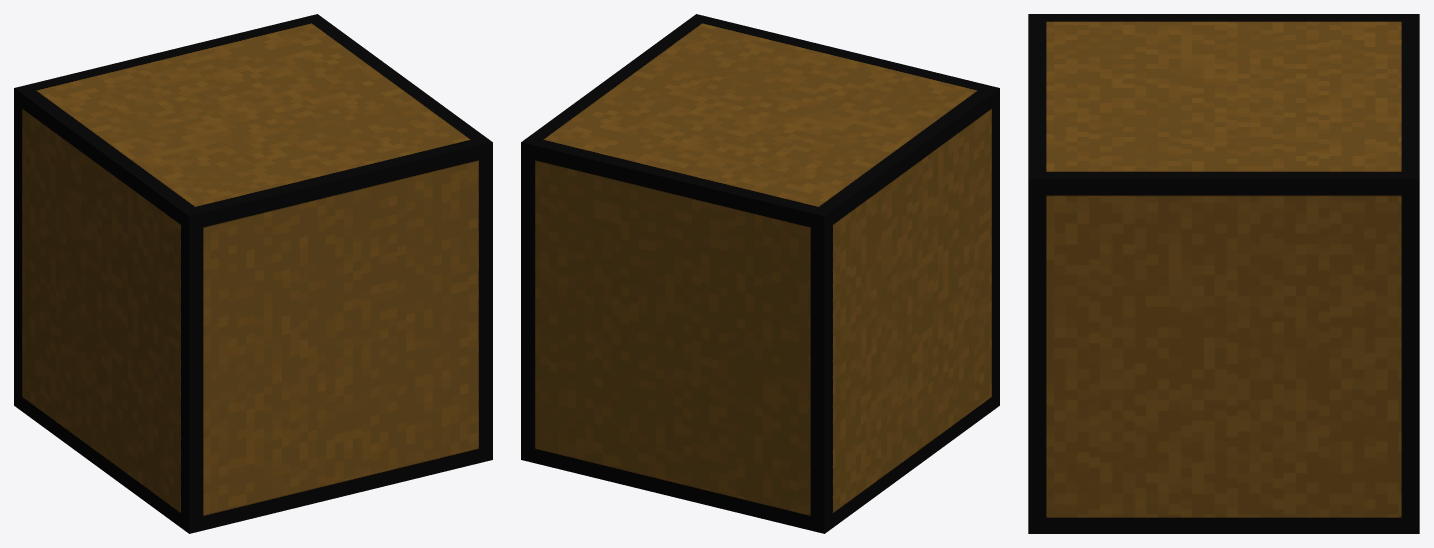
The model's file is Dirt.glb.
3 renders of one model, left to right at view 1: azimuth 30°, elevation 25°; view 2: azimuth 150°, elevation 25°; view 3: azimuth 270°, elevation 25°, orthographic. The views are drawn at different scales.
Visible parts, largest first — view 1: DirtBaked; view 2: DirtBaked; view 3: DirtBaked.
Boxes of the visible parts, x1,y1,x2,y2 form: DirtBaked: [14, 14, 492, 533]; DirtBaked: [521, 14, 999, 533]; DirtBaked: [1028, 14, 1419, 533].
Size of the model in its own units: 0.98 by 0.98 by 0.98.
1 material, 1 textured.
